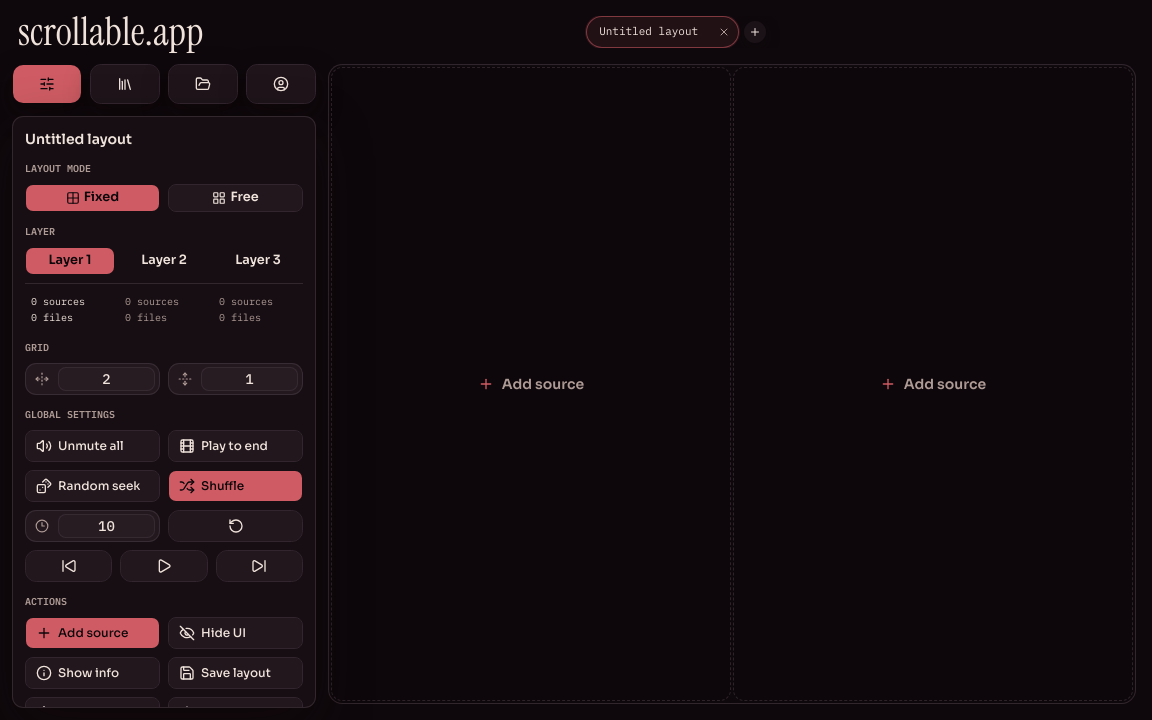
Test: FeedWorkbench account state › opens a signup auth surface from the signed-out account panel
Click the button named "Sign in": click(281, 84) [246, 64, 316, 104]
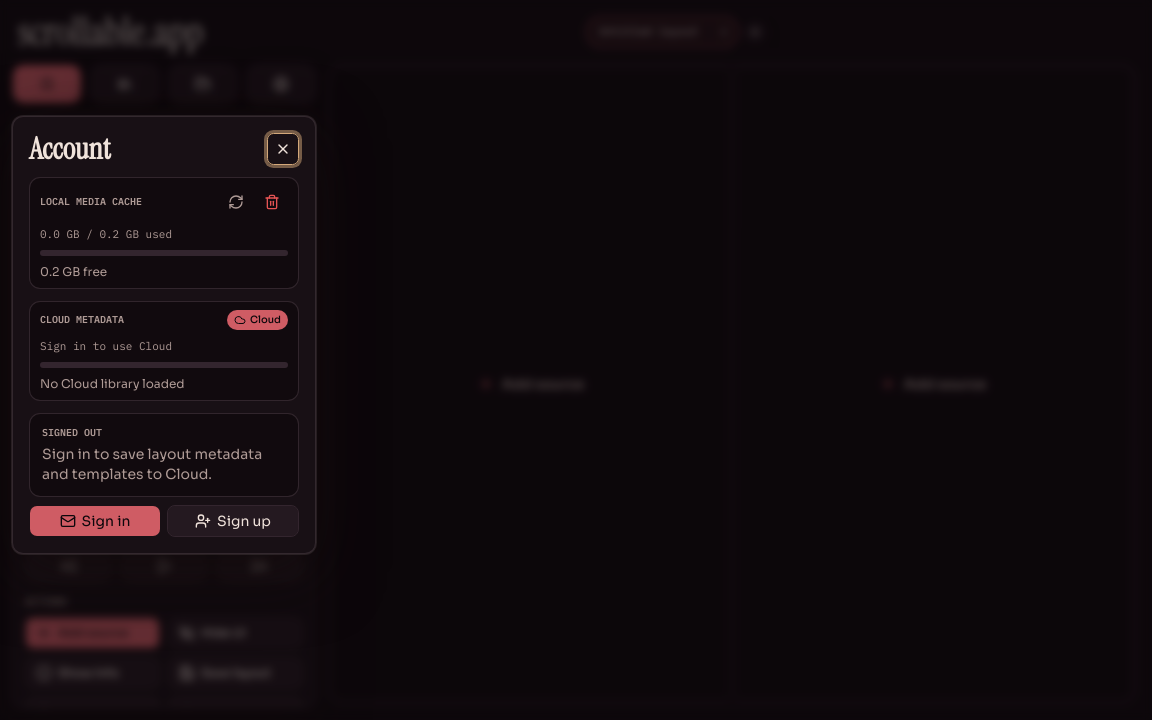
Now the button "Sign up" is shown
Click the button "Sign up": click(233, 521) [167, 505, 299, 537]
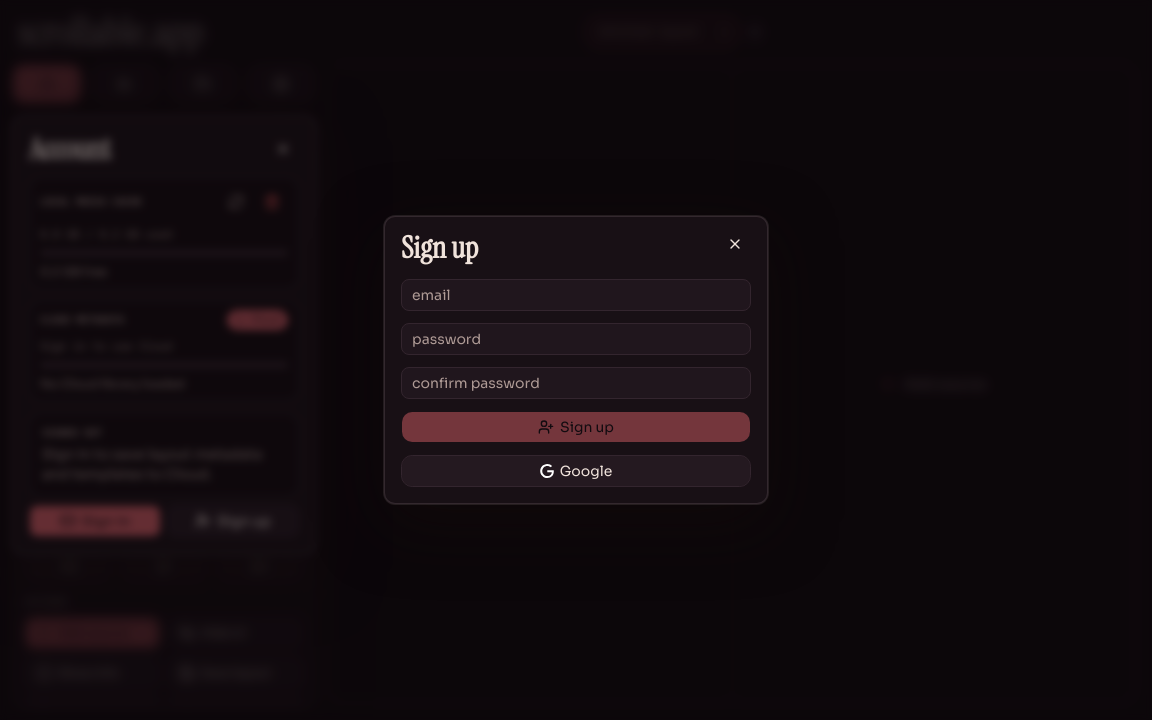
Now the field labelled "email" is shown, box [401, 279, 751, 311]
Now the password field labelled "password" is shown, box [401, 323, 751, 355]
Now the password field labelled "confirm password" is shown, box [401, 367, 751, 399]
